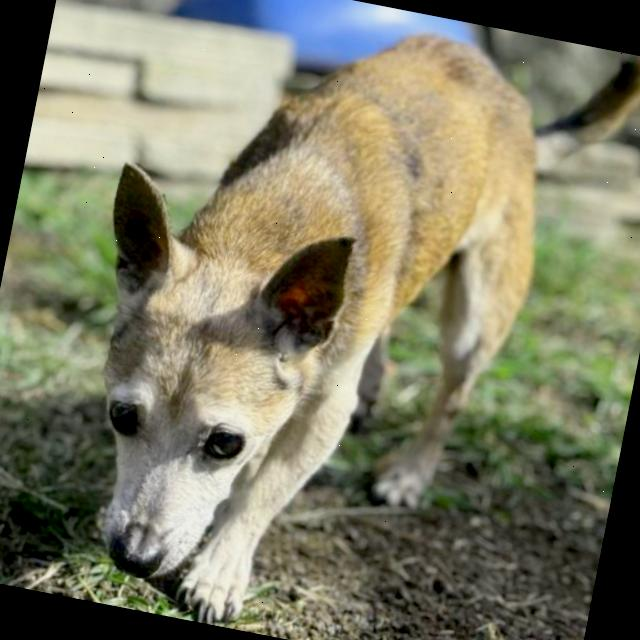chihuahua_dog: (18, 146, 378, 638)
